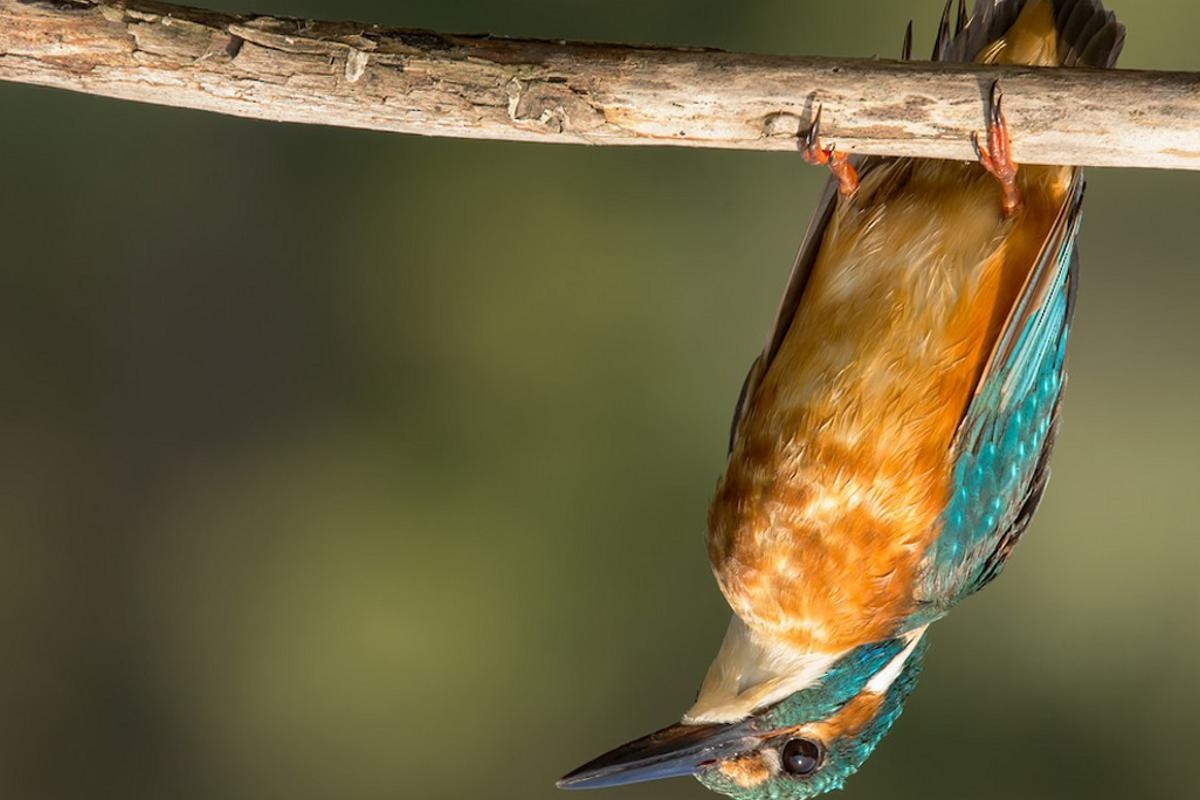kingfisher: (523, 29, 1133, 800)
